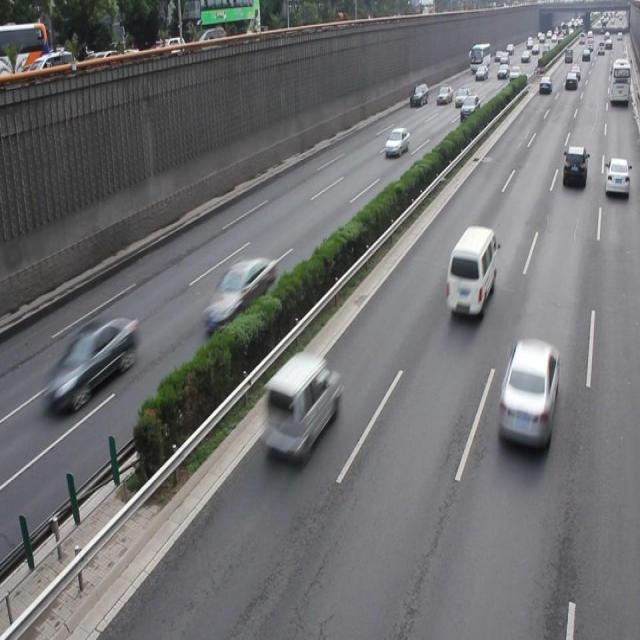car: (47, 316, 139, 412), (260, 351, 338, 463), (496, 338, 560, 452), (202, 256, 275, 332), (561, 146, 586, 190), (603, 158, 629, 196), (384, 126, 409, 158)
truck: (445, 225, 496, 314)
